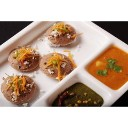idly: (3, 76, 38, 105), (41, 53, 74, 78), (8, 48, 39, 70), (49, 23, 78, 46)
